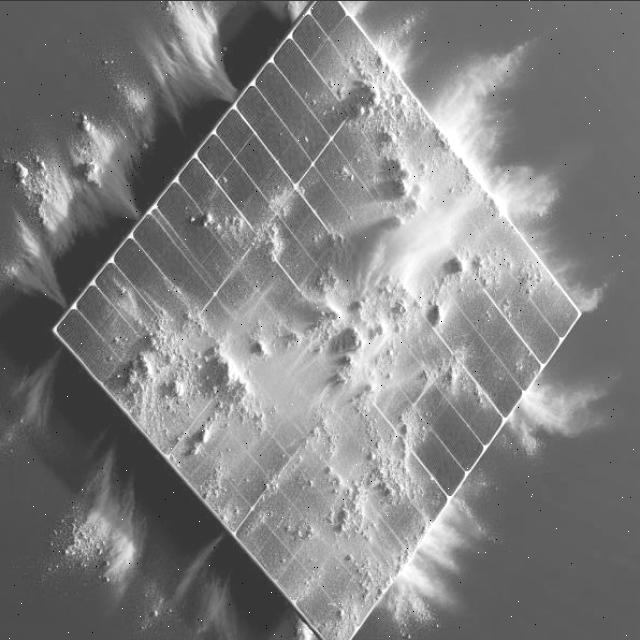Anomaly Solar Panel: (4, 0, 640, 640)
Surface Contaminant: (29, 15, 640, 640)
